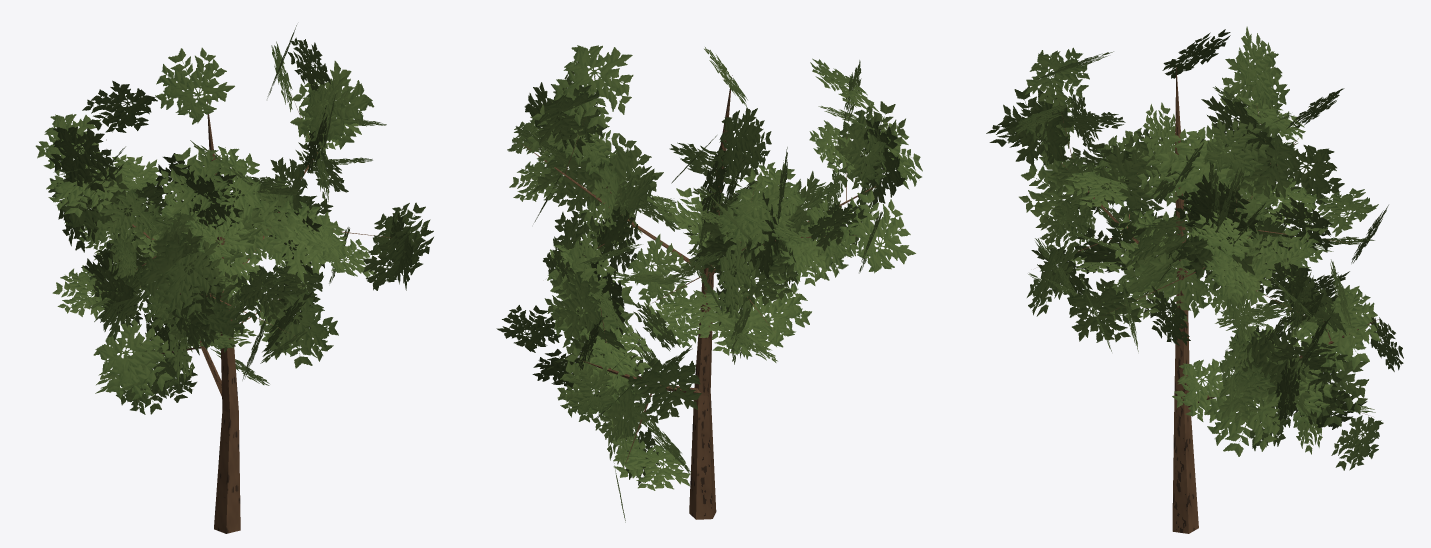
Rendered from forest-oak-a.obj.
3 renders of one model, left to right at view 1: azimuth 30°, elevation 25°; view 2: azimuth 150°, elevation 25°; view 3: azimuth 270°, elevation 25°, orthographic. The views are drawn at different scales.
Size of the model in its own units: 5.88 by 7.46 by 6.03.
Materials: 2 (2 with a texture image).
